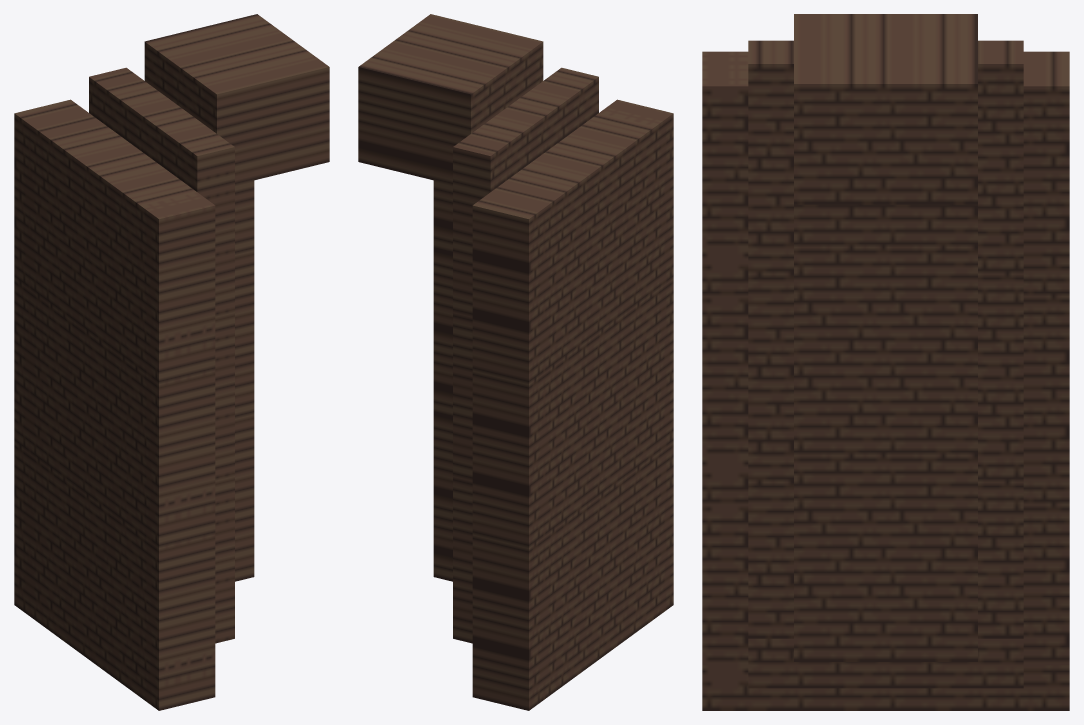
File: Ship_Back_00.fbx
3 views of the same model, side by side, from view 1: azimuth 30°, elevation 25°; view 2: azimuth 150°, elevation 25°; view 3: azimuth 270°, elevation 25° (orthographic). The views are drawn at different scales.
Parts seen in each view (by area): view 1: Ship_Back_00; view 2: Ship_Back_00; view 3: Ship_Back_00.
Part boxes in pixels (left/top/right/bottom): Ship_Back_00: left=14, top=14, right=329, bottom=710; Ship_Back_00: left=358, top=14, right=673, bottom=710; Ship_Back_00: left=702, top=14, right=1069, bottom=710.
Bounding box in the file's own units: 330 × 865 × 400.
